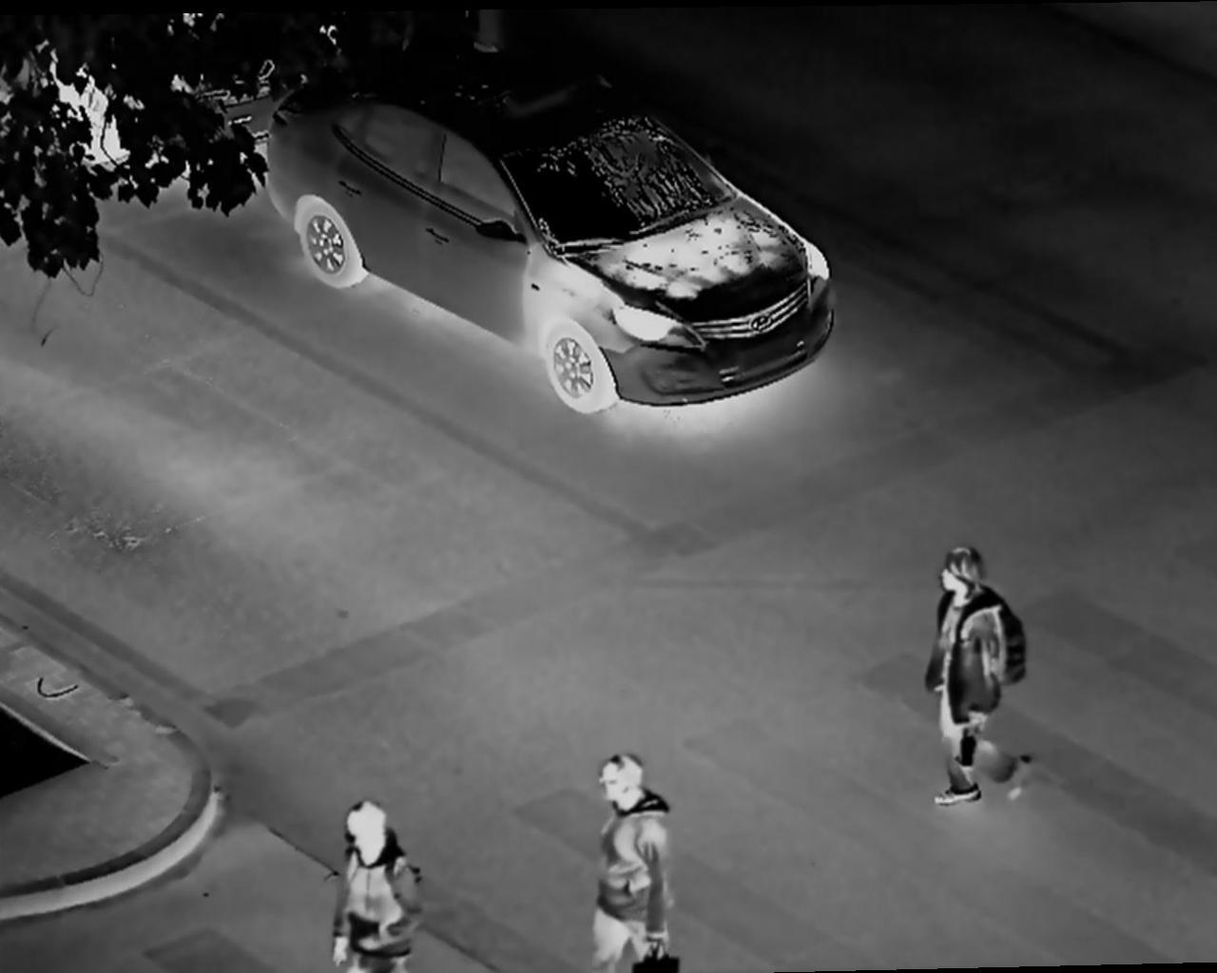person: (921, 544, 1050, 821), (581, 753, 674, 973), (323, 794, 422, 973)
